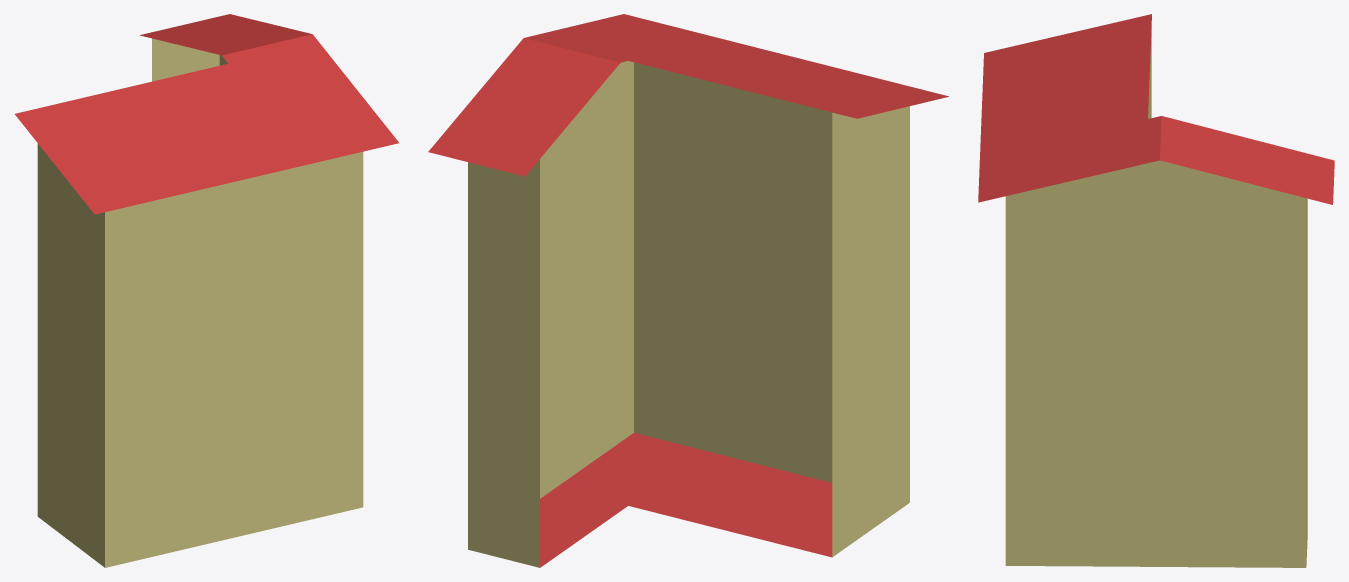
3 renders of one model, left to right at view 1: azimuth 30°, elevation 25°; view 2: azimuth 150°, elevation 25°; view 3: azimuth 270°, elevation 25°, orthographic. The views are drawn at different scales.
Size of the model in its own units: 6.64 by 6.58 by 8.5.
